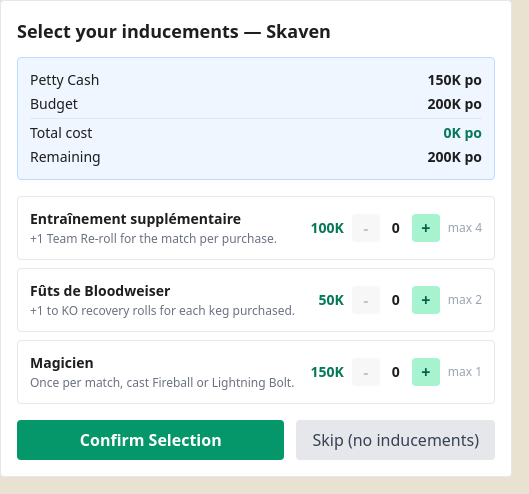
Test case: InducementSelector › allows adding an inducement and updates quantity
Click the button "+" in the row of "100" at coordinates (426, 228), box [412,214,440,242]
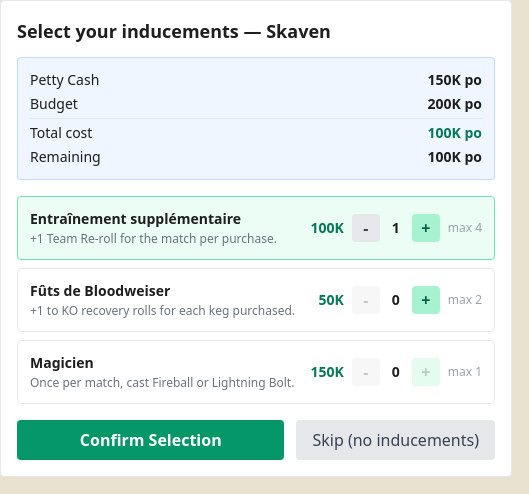
Expected: the text "1" is shown, [392,218,400,237]
